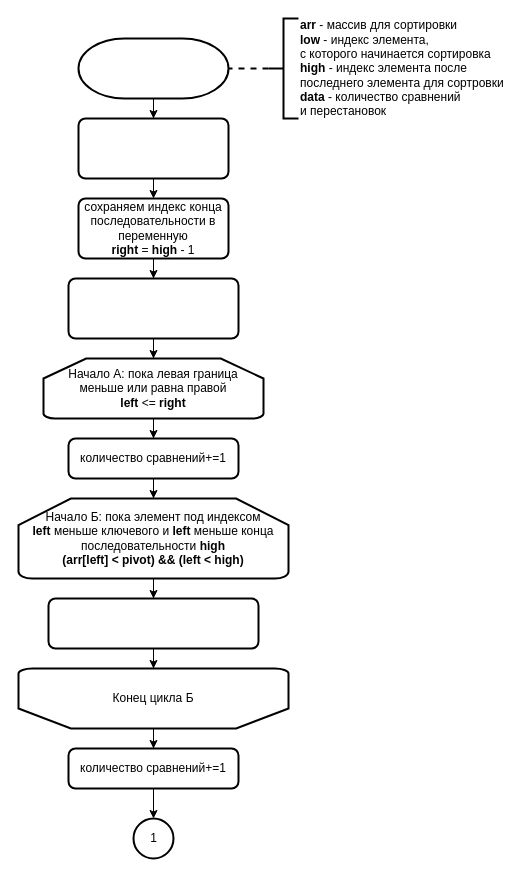
Image size: 521x876. Some labels were removed from this diagram. The box of each missing label's shape, as (x1, y1, x2, y2) in pixels:
количество сравнений+=2 сдивгаем левую границу направо left ++: (47, 597, 259, 649)
Начало improved_quick_sort: (77, 37, 229, 99)
сохраняем индекс начала последовательности в переменную left = low: (77, 117, 229, 179)
сохраняем ключевое значение в переменную pivot = arr [( left + right ) / 2]: (67, 277, 239, 339)
